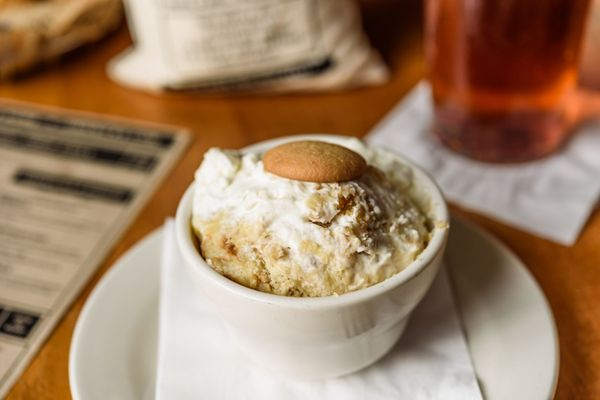pizza: (419, 0, 596, 164)
sushi: (175, 134, 451, 380)
